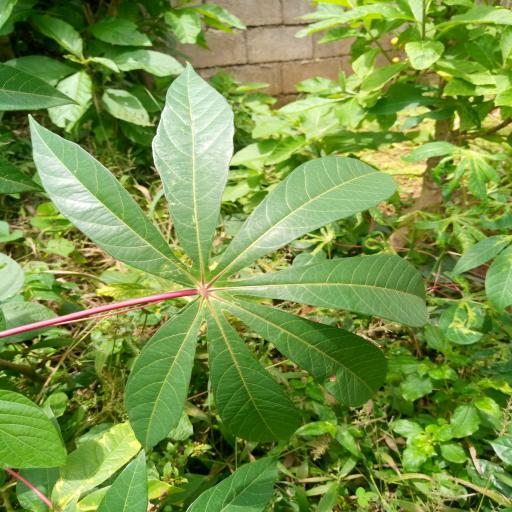Cassava_Healthy: (29, 64, 431, 456)
